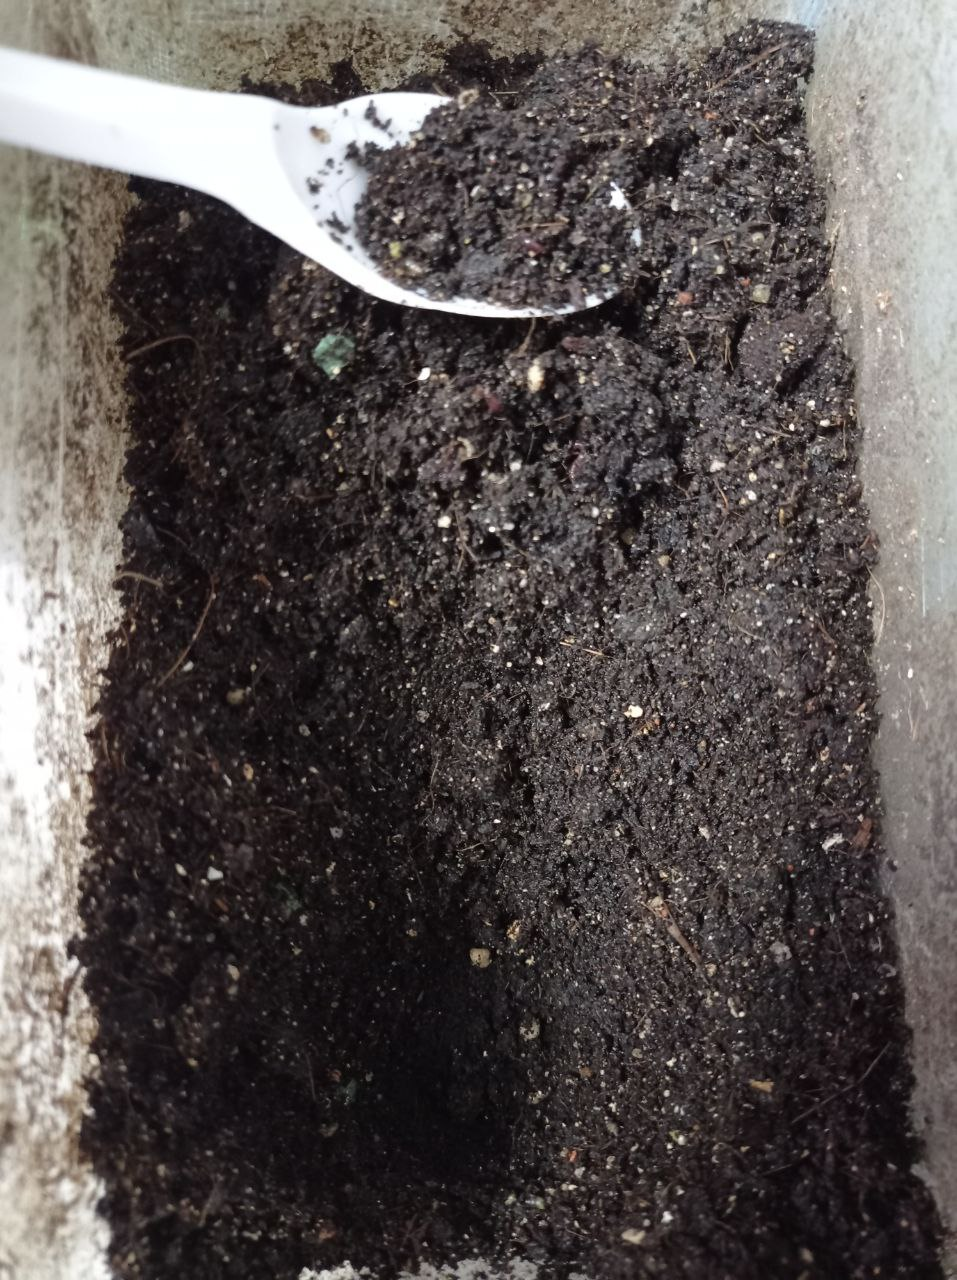compost: (342, 80, 660, 340)
unknown browns: (567, 809, 740, 985)
unknown greens: (289, 309, 373, 405)
